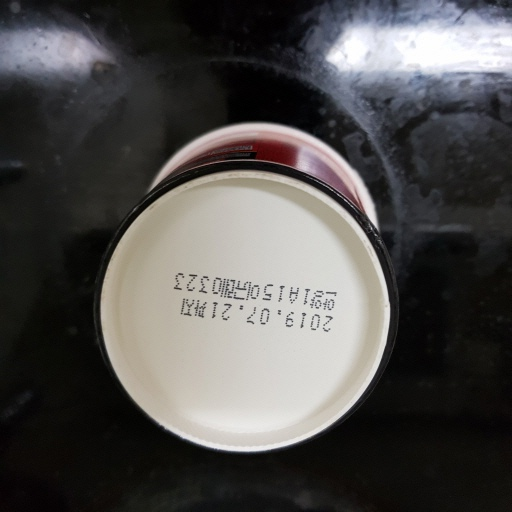Paper_1: (99, 122, 395, 456)
